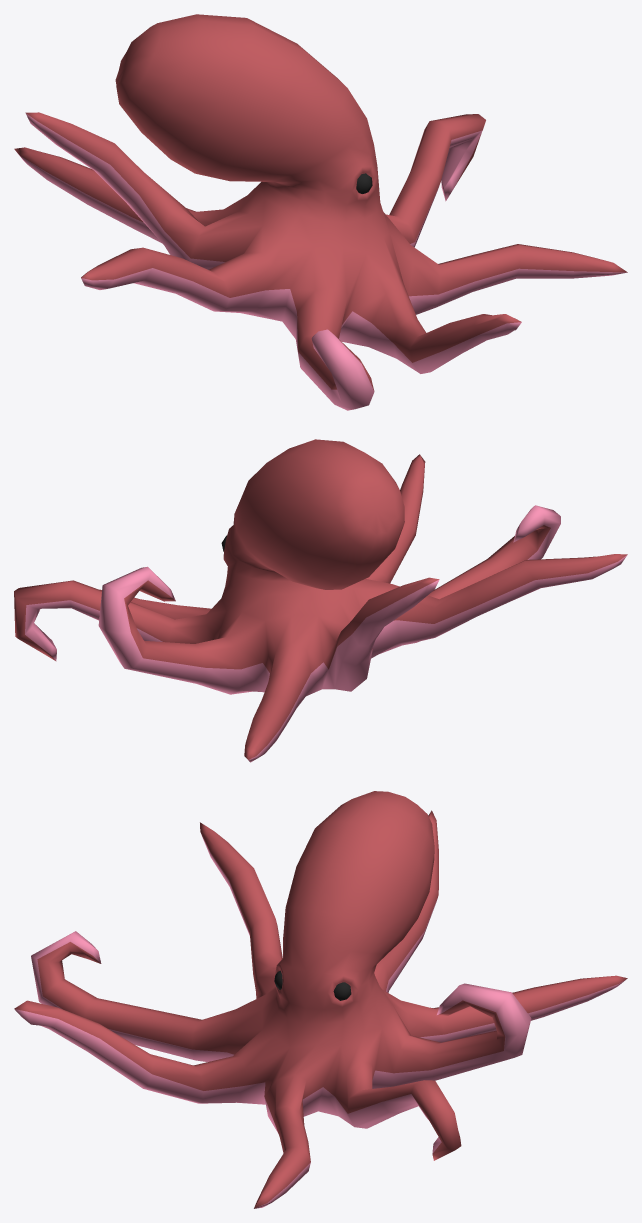
Rendered from octopus-2.glb.
3 renders of one model, top to bottom at view 1: azimuth 30°, elevation 25°; view 2: azimuth 150°, elevation 25°; view 3: azimuth 270°, elevation 25°, orthographic. The views are drawn at different scales.
Parts seen in each view (by area): view 1: Octopus_002; view 2: Octopus_002; view 3: Octopus_002.
Part boxes in pixels (x1,y1,x2,y2): Octopus_002: (14,14,627,410); Octopus_002: (14,439,627,762); Octopus_002: (14,791,627,1208).
Bounding box in the file's own units: 2.43 × 1.2 × 2.54.
Materials: 1 (1 with a texture image).
